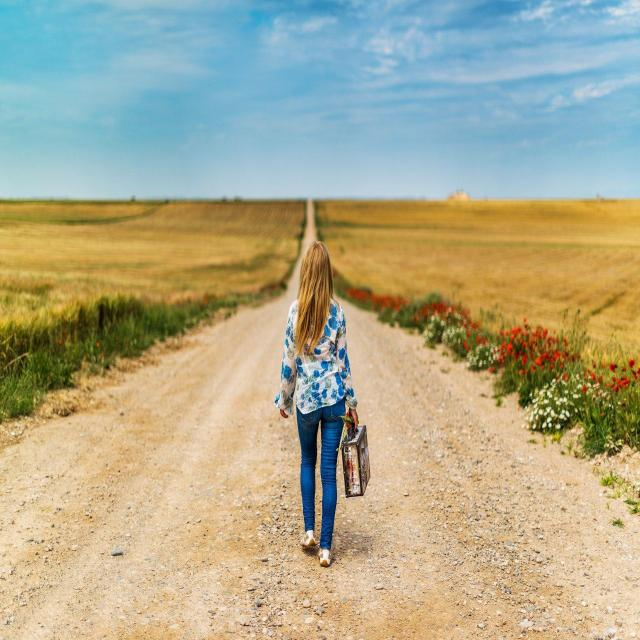person: (260, 224, 378, 579)
